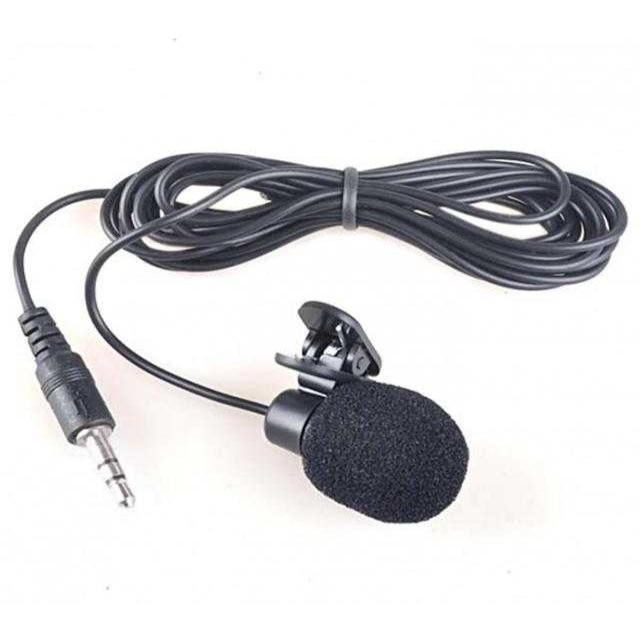microphone: (269, 371, 498, 528)
